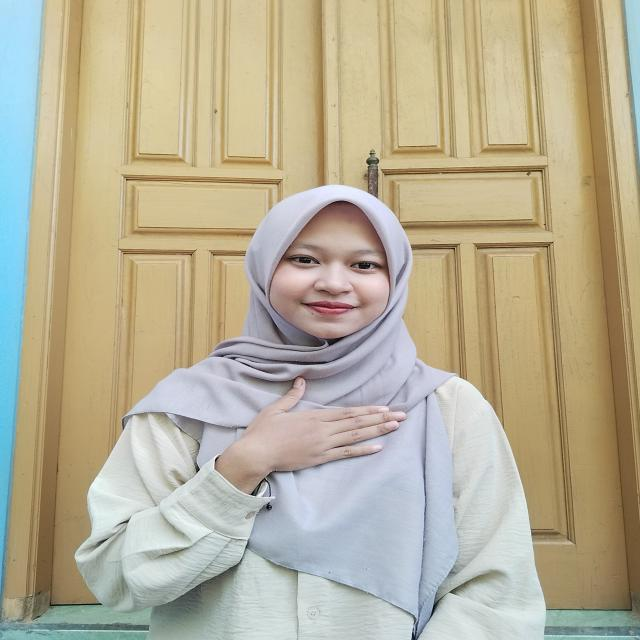tolong: (208, 379, 414, 507)
